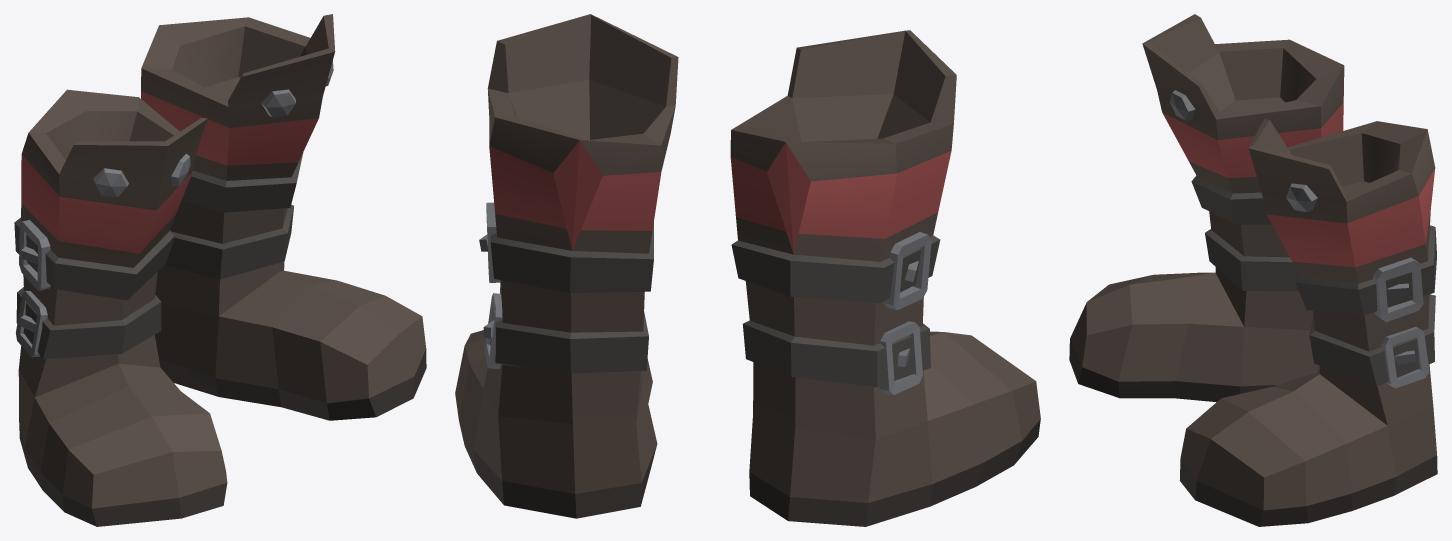
Rendered from bootsSoldierDisplay.fbx.
The picture shows the model from 3 angles, left to right: view 1: azimuth 30°, elevation 25°; view 2: azimuth 150°, elevation 25°; view 3: azimuth 270°, elevation 25°; orthographic projection. The views are drawn at different scales.
Parts seen in each view (by area): view 1: bootsSoldierDisplay; view 2: bootsSoldierDisplay; view 3: bootsSoldierDisplay.
Boxes of the visible parts, x1,y1,x2,y2 form: bootsSoldierDisplay: (14, 14, 426, 526); bootsSoldierDisplay: (455, 14, 1040, 526); bootsSoldierDisplay: (1069, 14, 1437, 526).
Size of the model in its own units: 1.61 by 1.28 by 1.26.
